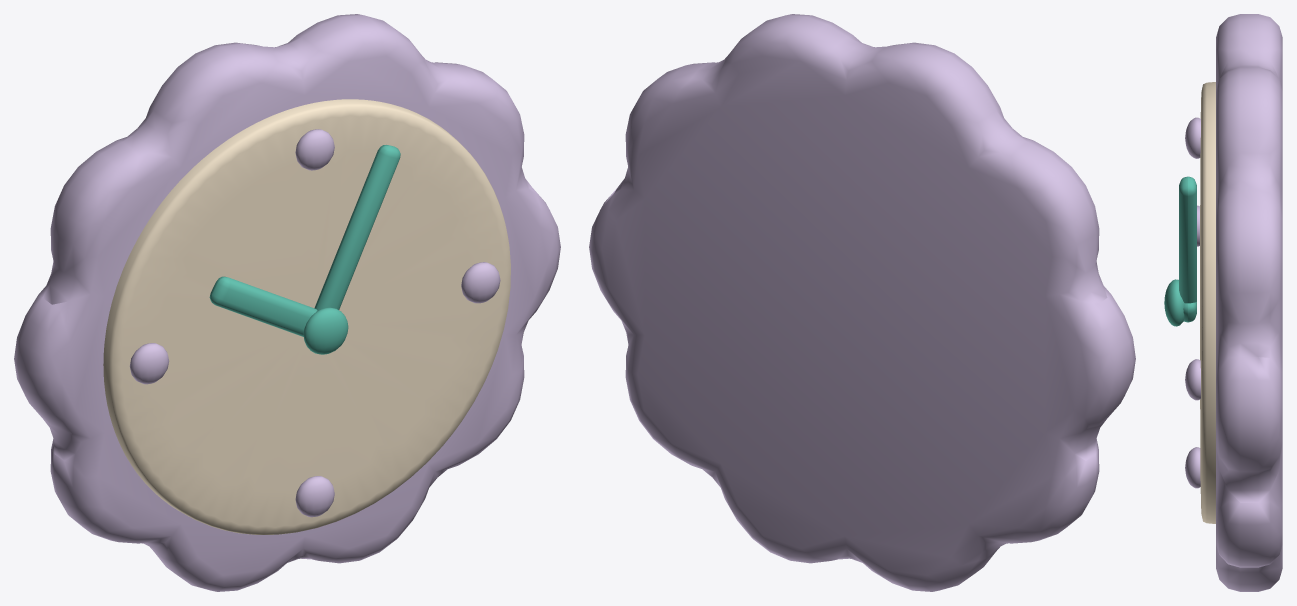
File: clock_c.glb
3 views of the same model, side by side, from view 1: azimuth 30°, elevation 25°; view 2: azimuth 150°, elevation 25°; view 3: azimuth 270°, elevation 25° (orthographic). The views are drawn at different scales.
Parts seen in each view (by area): view 1: body; view 2: body; view 3: body.
Part boxes in pixels (box(x1,y1,x2,y2)): body: box(14, 14, 560, 591); body: box(589, 14, 1135, 591); body: box(1164, 14, 1282, 591).
Bounding box in the file's own units: 0.394 × 0.3799 × 0.08.
